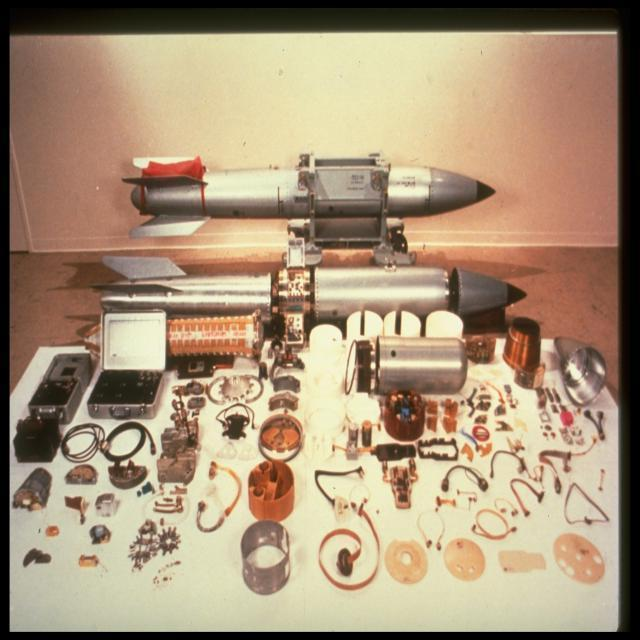Missile: (120, 144, 497, 220)
